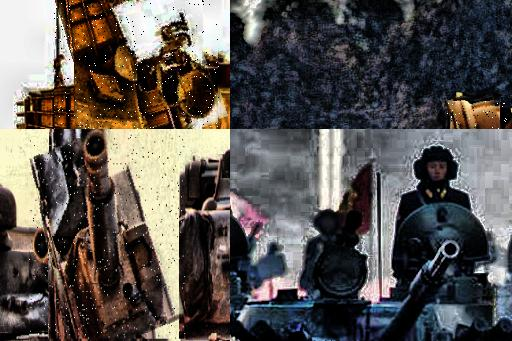tanks: (231, 213, 512, 341), (30, 135, 186, 341), (57, 1, 220, 130), (446, 103, 501, 130)
